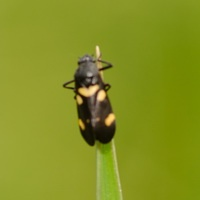insect: (63, 46, 114, 145)
